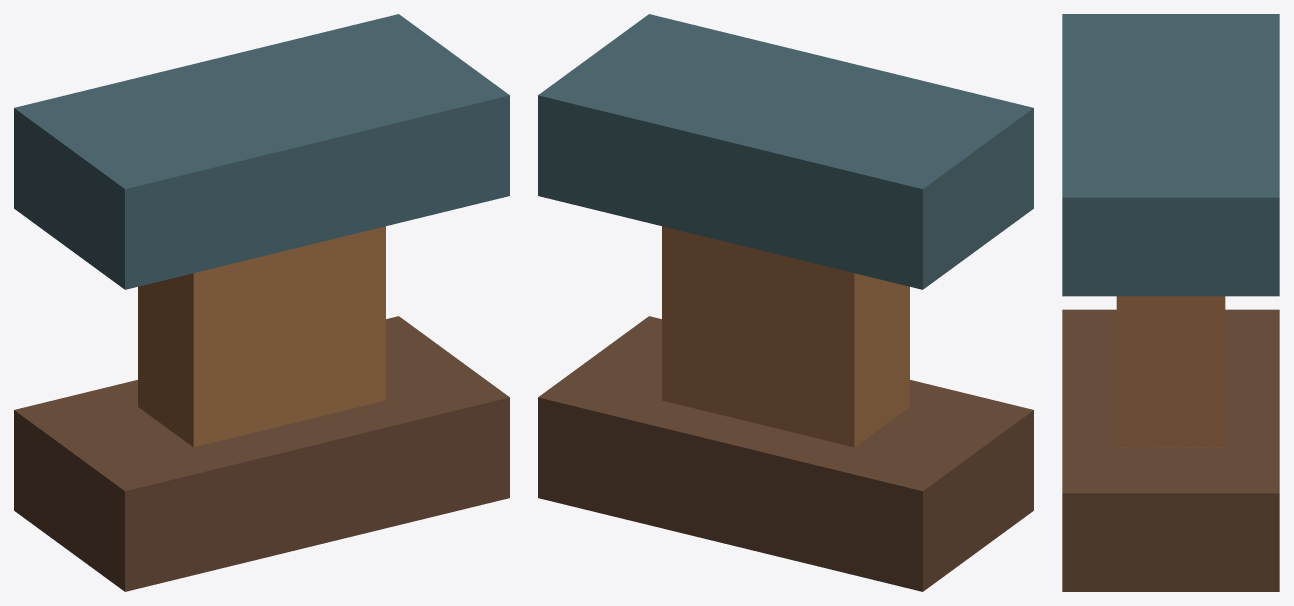
The model's file is workshop.bridge.B.arch-foot.palette.glb.
3 views of the same model, side by side, from view 1: azimuth 30°, elevation 25°; view 2: azimuth 150°, elevation 25°; view 3: azimuth 270°, elevation 25° (orthographic). The views are drawn at different scales.
Visible parts, largest first — view 1: VW.bearing.cap.001, VW.footing.001, VW.inset.core.001; view 2: VW.bearing.cap.001, VW.footing.001, VW.inset.core.001; view 3: VW.bearing.cap.001, VW.footing.001, VW.inset.core.001.
Boxes of the visible parts, x1,y1,x2,y2 form: VW.bearing.cap.001: (14,14,509,289); VW.footing.001: (14,316,509,591); VW.inset.core.001: (138,226,385,447); VW.bearing.cap.001: (538,14,1033,289); VW.footing.001: (538,316,1033,591); VW.inset.core.001: (662,226,909,447); VW.bearing.cap.001: (1062,14,1279,296); VW.footing.001: (1062,309,1279,591); VW.inset.core.001: (1116,296,1225,447).
Bounding box in the file's own units: 0.5 × 0.5 × 0.25.
3 materials, 3 textured.
